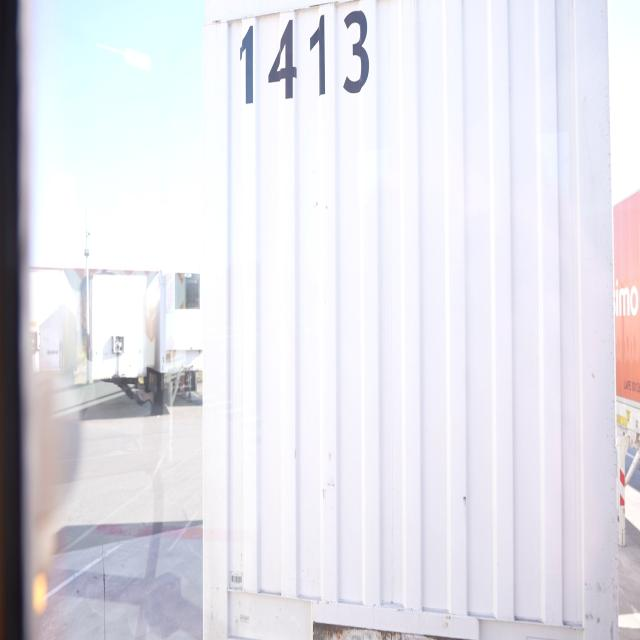Code: (234, 5, 376, 117)
